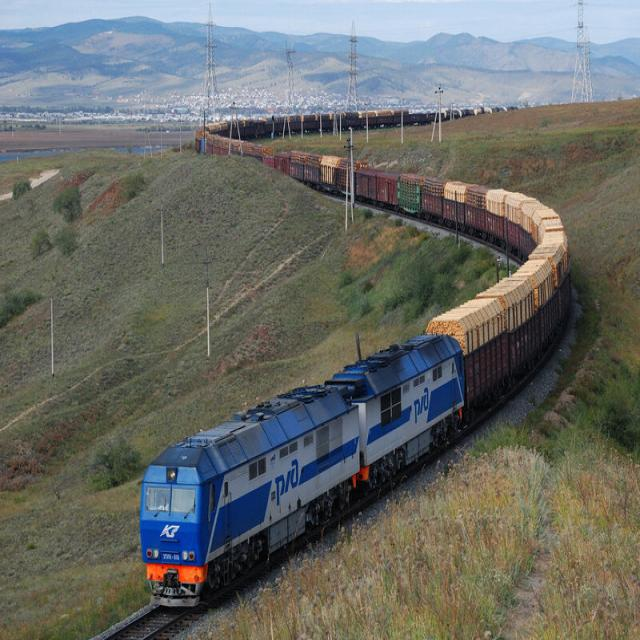cargo: (424, 295, 506, 358)
gondola: (460, 327, 510, 425)
locomotive: (130, 373, 365, 614), (327, 328, 467, 503)
